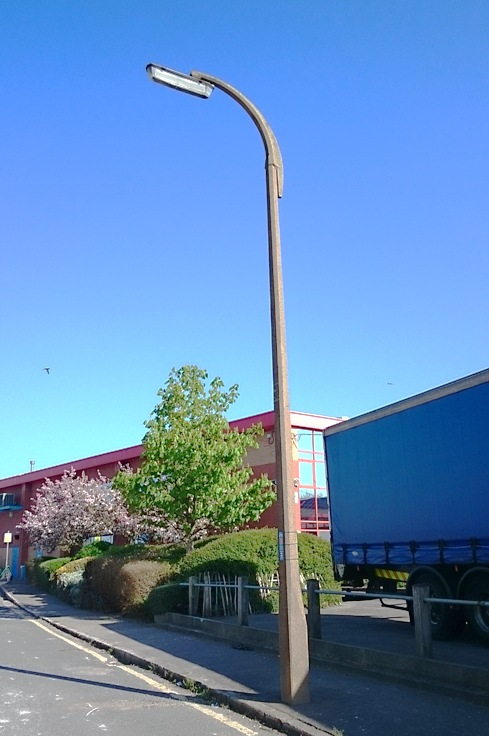light_pole: (241, 118, 316, 704)
